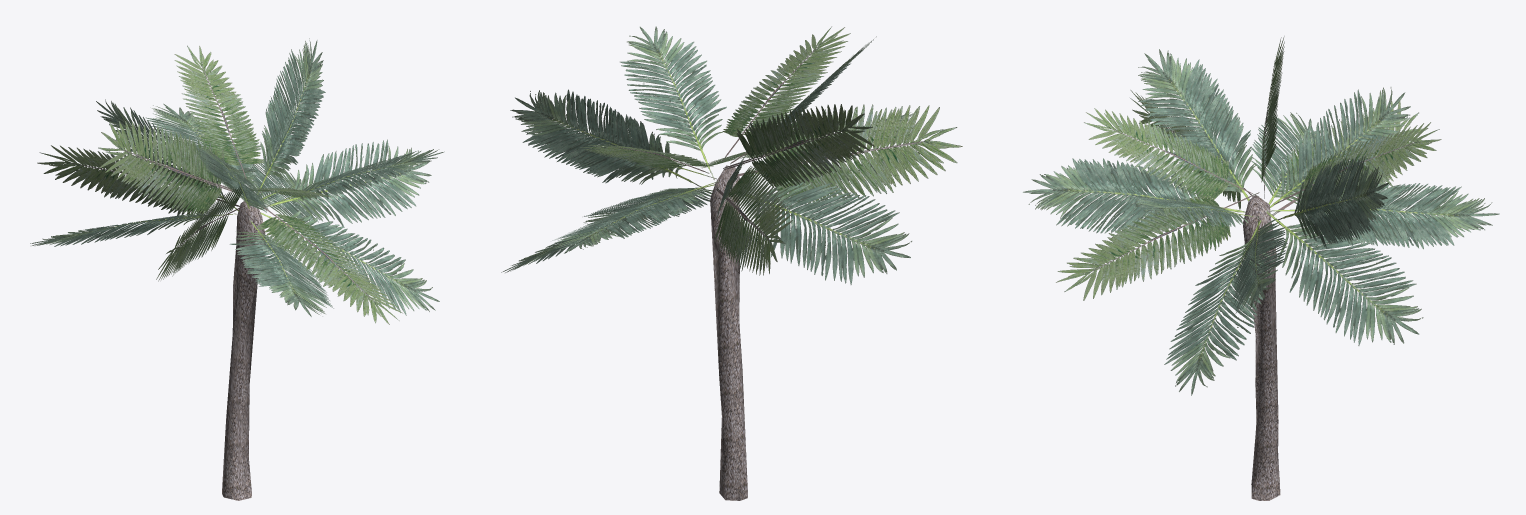
The model's file is palm_tree_9_LOD1.FBX.
3 views of the same model, side by side, from view 1: azimuth 30°, elevation 25°; view 2: azimuth 150°, elevation 25°; view 3: azimuth 270°, elevation 25° (orthographic). The views are drawn at different scales.
Visible parts, largest first — view 1: Plane002, Cylinder002; view 2: Plane002, Cylinder002; view 3: Plane002, Cylinder002.
Boxes of the visible parts, left/top/right/bottom form: Plane002: left=30, top=38, right=444, bottom=324; Cylinder002: left=222, top=201, right=265, bottom=500; Plane002: left=501, top=26, right=962, bottom=284; Cylinder002: left=710, top=165, right=747, bottom=500; Plane002: left=1023, top=36, right=1499, bottom=395; Cylinder002: left=1243, top=195, right=1280, bottom=500.
Bounding box in the file's own units: 14.3 × 15.65 × 14.46.
